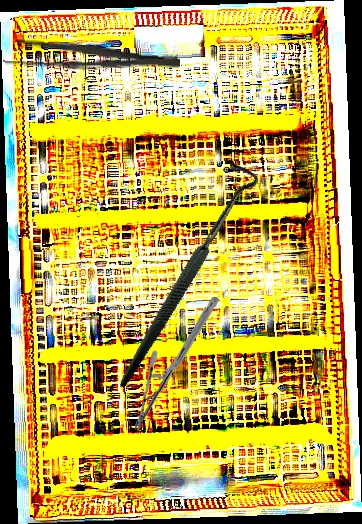Dressing Forceps: (2, 38, 181, 77)
Hook Surgical: (50, 154, 315, 389)
Needle Holder: (133, 294, 219, 433)
